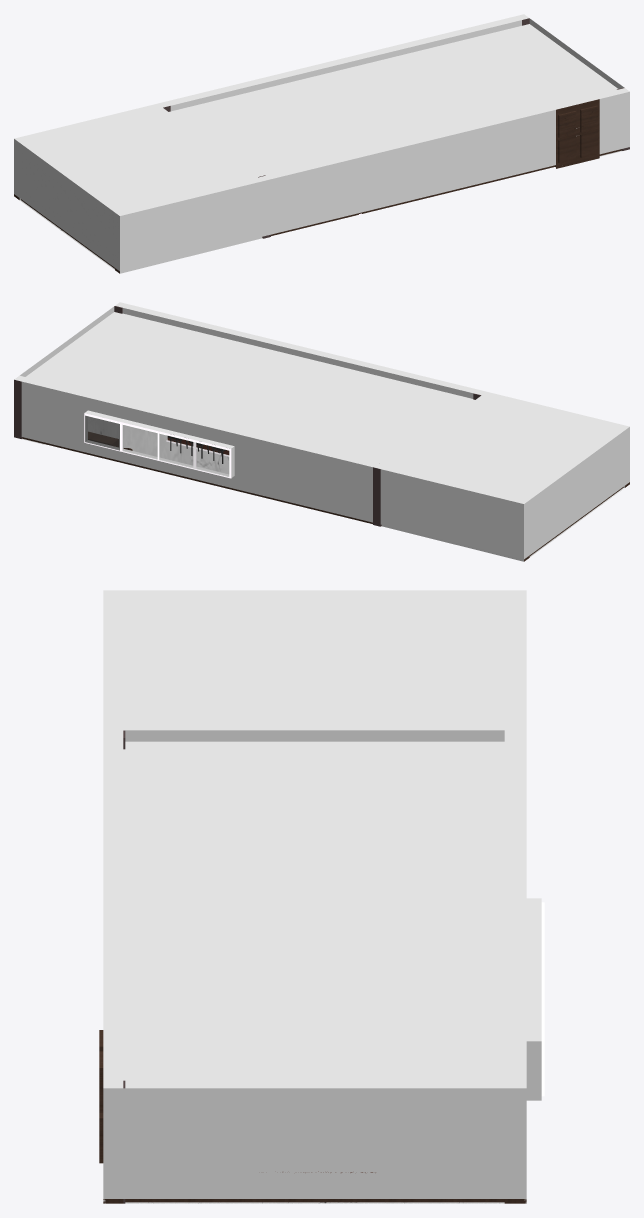
File: confRoom-transformed.glb
3 views of the same model, one above another, from view 1: azimuth 30°, elevation 25°; view 2: azimuth 150°, elevation 25°; view 3: azimuth 270°, elevation 25° (orthographic). The views are drawn at different scales.
Visible parts, largest first — view 1: Object_27, Object_11, Object_9; view 2: Object_27, Object_25, Object_3, Object_7, Object_6, Object_9; view 3: Object_27, Object_9.
Part boxes in pixels (<box>): Object_27: <box>14,14,629,273</box>; Object_11: <box>359,99,599,213</box>; Object_9: <box>14,149,621,273</box>; Object_27: <box>14,302,629,561</box>; Object_25: <box>85,415,228,476</box>; Object_3: <box>22,416,621,557</box>; Object_7: <box>84,413,231,478</box>; Object_6: <box>14,306,480,526</box>; Object_9: <box>22,437,629,561</box>; Object_27: <box>103,590,541,1203</box>; Object_9: <box>103,1199,526,1203</box>.
Bounding box in the file's own units: 13.91 × 1.54 × 5.26.
14 materials, 5 textured.
